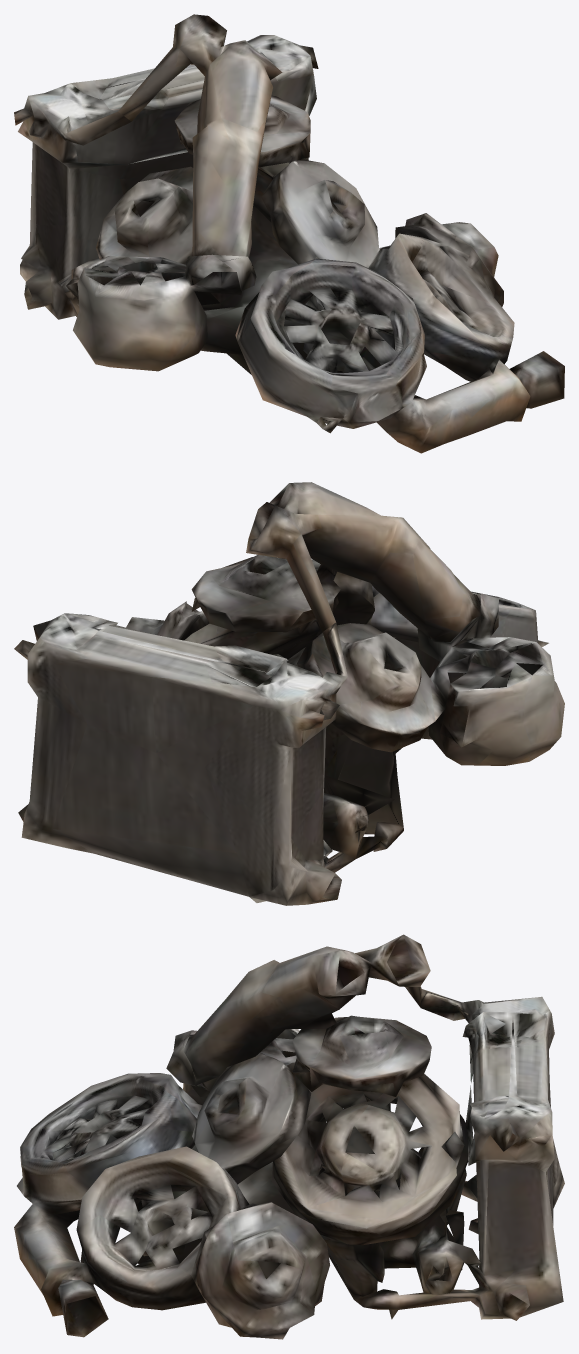
The model's file is gr_parts.glb.
The picture shows the model from 3 angles, top to bottom: view 1: azimuth 30°, elevation 25°; view 2: azimuth 150°, elevation 25°; view 3: azimuth 270°, elevation 25°; orthographic projection. The views are drawn at different scales.
Visible parts, largest first — view 1: tripo_node_ef5fc13e-4e7d-46ac-a4c0-419edeec9d3c; view 2: tripo_node_ef5fc13e-4e7d-46ac-a4c0-419edeec9d3c; view 3: tripo_node_ef5fc13e-4e7d-46ac-a4c0-419edeec9d3c.
Boxes of the visible parts, box(x1,y1,x2,y2) form: tripo_node_ef5fc13e-4e7d-46ac-a4c0-419edeec9d3c: box(14, 14, 564, 453); tripo_node_ef5fc13e-4e7d-46ac-a4c0-419edeec9d3c: box(14, 482, 564, 905); tripo_node_ef5fc13e-4e7d-46ac-a4c0-419edeec9d3c: box(14, 934, 564, 1339).
Bounding box in the file's own units: 0.855 × 0.629 × 1.
1 material, 1 textured.
